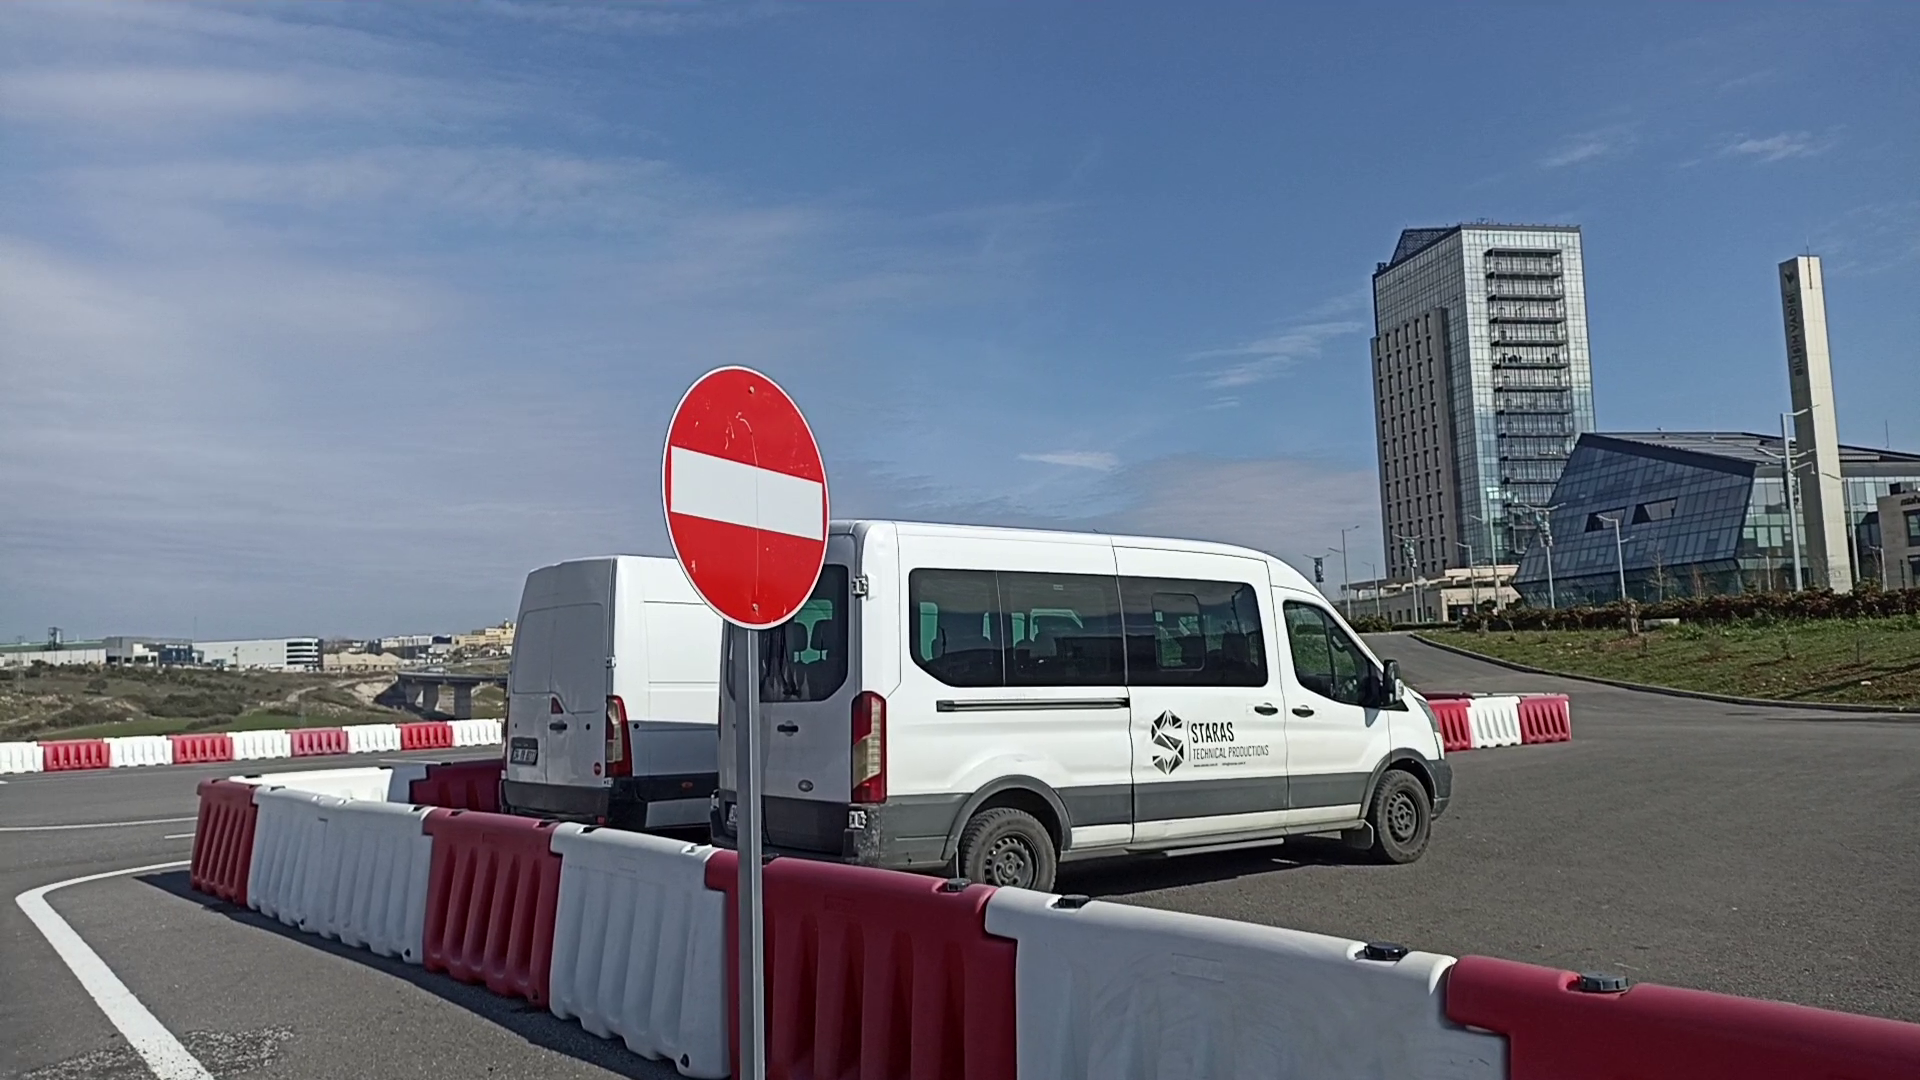noentryway: (655, 361, 837, 632)
